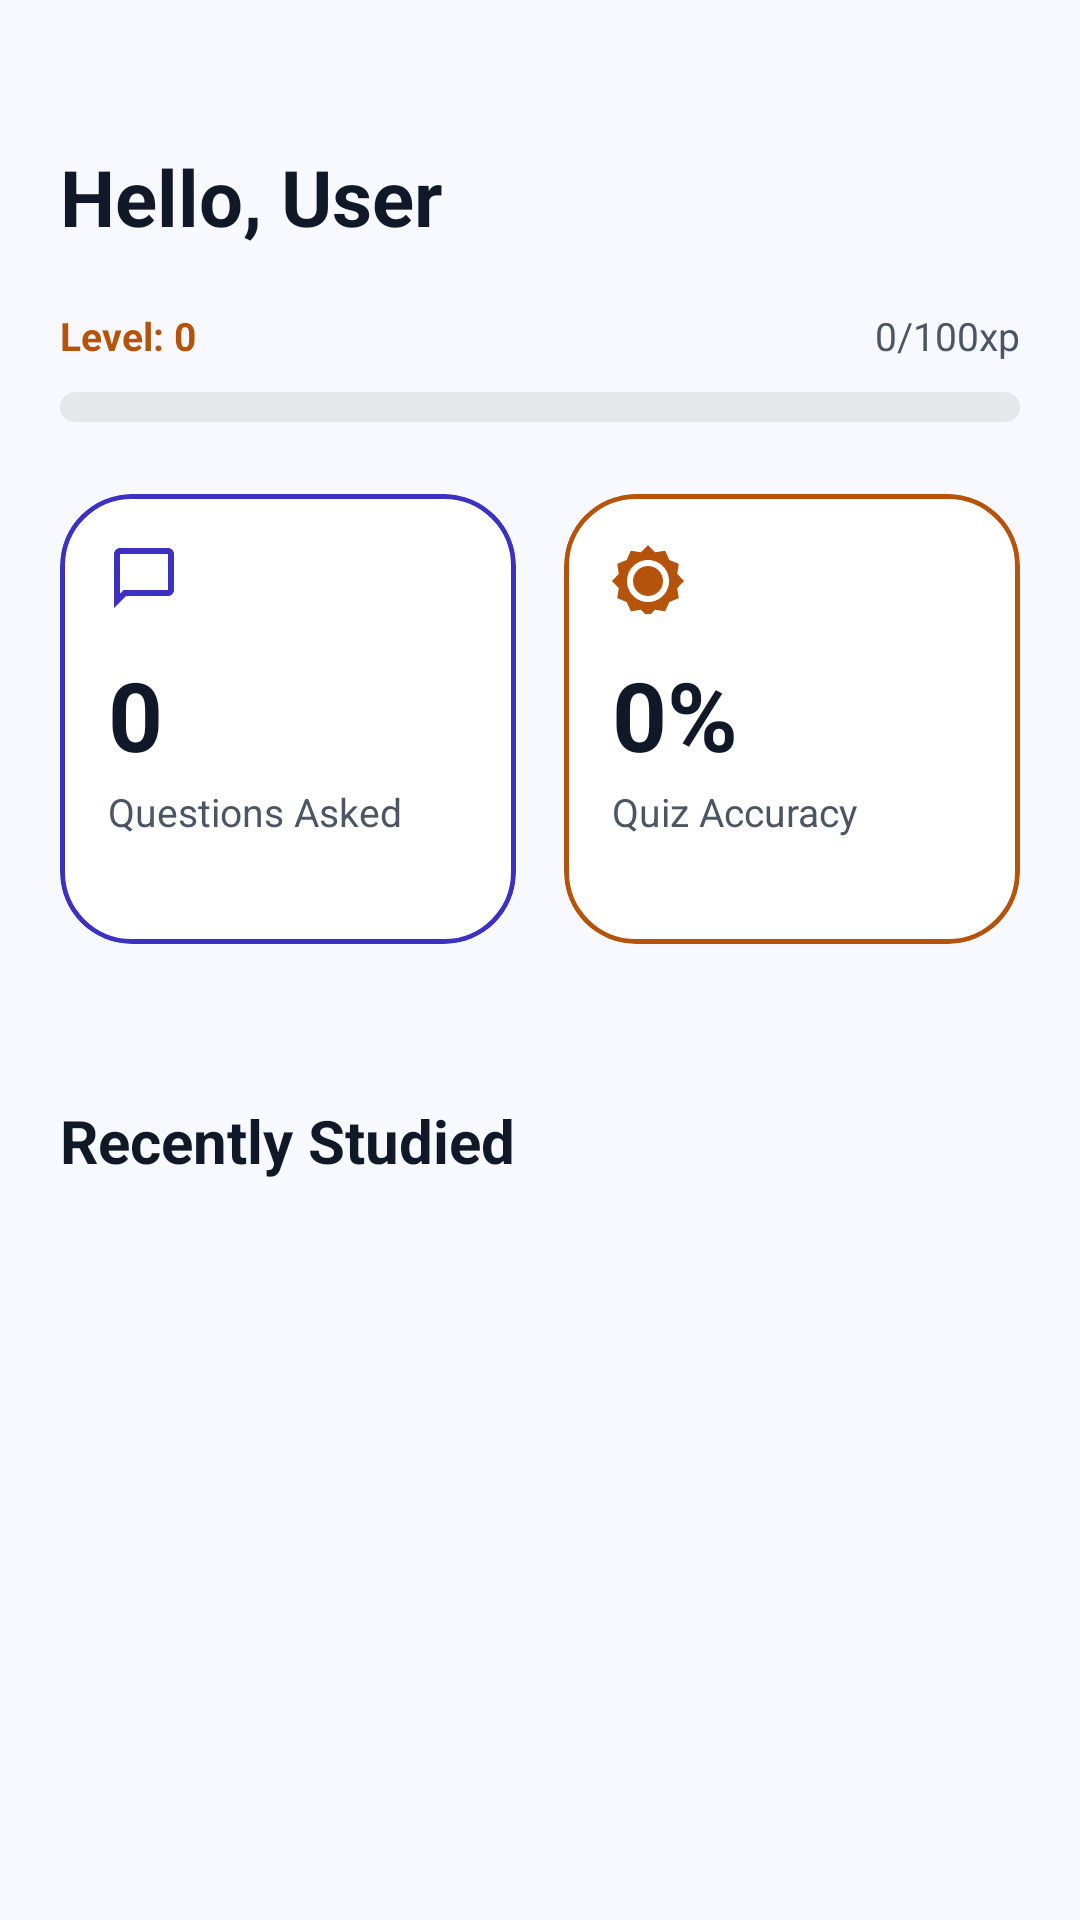

Icon click points for this 1080px×1920px phone screenshot, format [x,y]:
Chat icon: [144,578]
